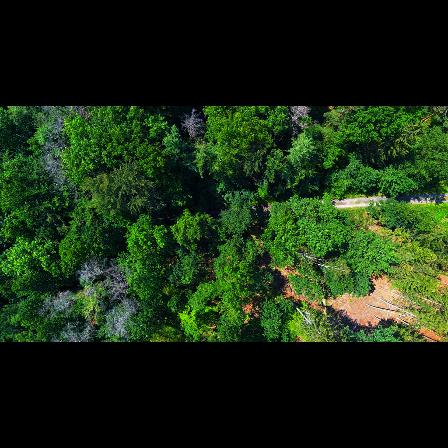Dead: (42, 133, 68, 192), (38, 285, 88, 314), (104, 298, 140, 336), (42, 106, 92, 131), (51, 319, 101, 341), (77, 257, 120, 282), (181, 106, 207, 142)
